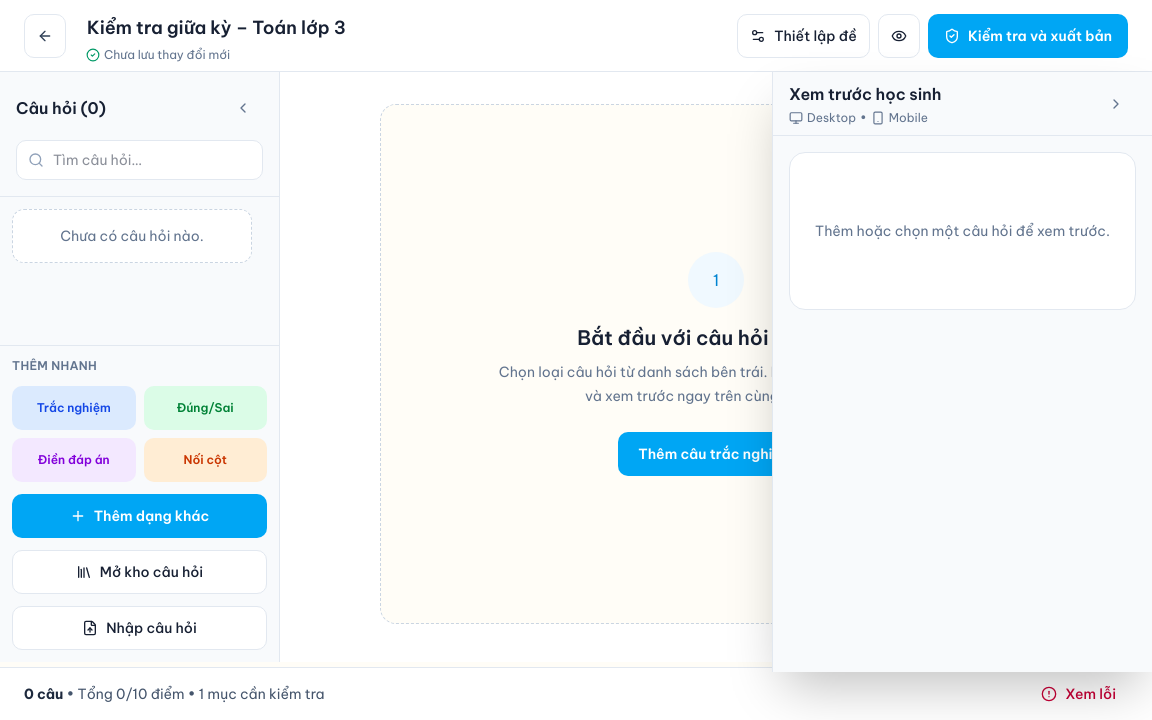
ManualQuizWorkspace desktop shell › opens publish validation from the header and status bar
Click the button "Kiểm tra và xuất bản" at coordinates (1028, 36), box [928,14,1128,58]
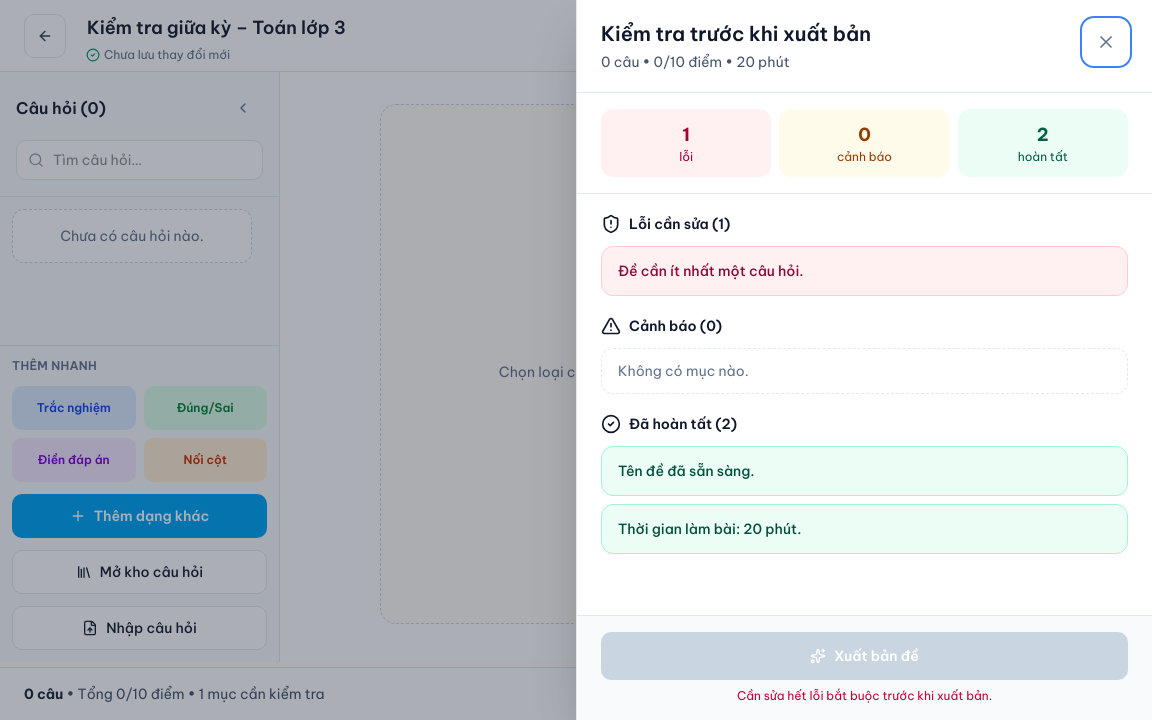
Now the dialog "Kiểm tra trước khi xuất bản" is shown, box [576,0,1151,719]
Click the button named "Đóng kiểm tra xuất bản" at coordinates (1106, 42), box [1084,20,1128,64]
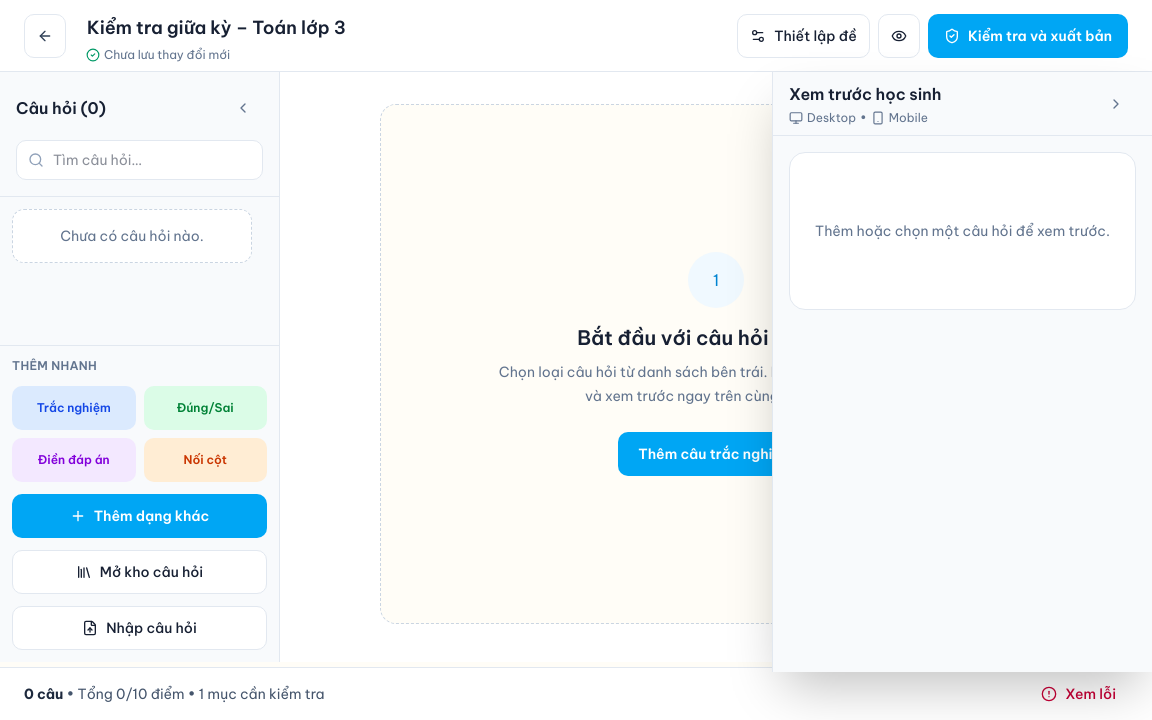
Click the button "Xem lỗi" at coordinates (1079, 694), box [1029,676,1128,712]
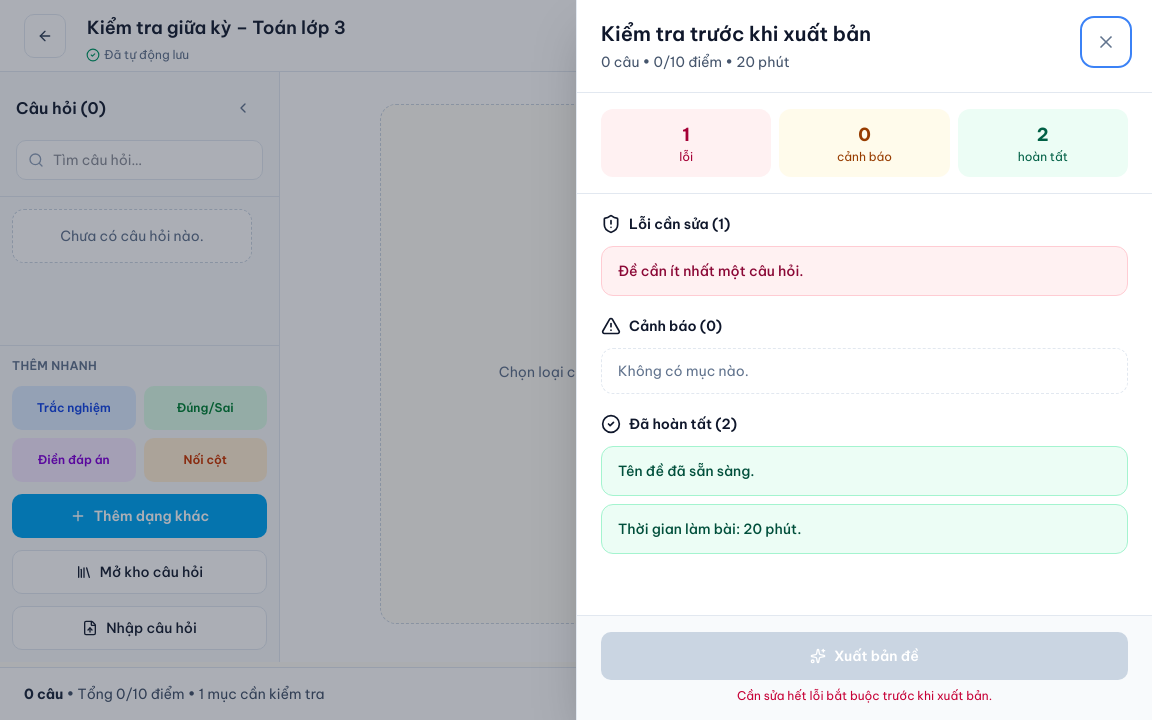
Now the dialog "Kiểm tra trước khi xuất bản" is shown, box [576,0,1151,719]
